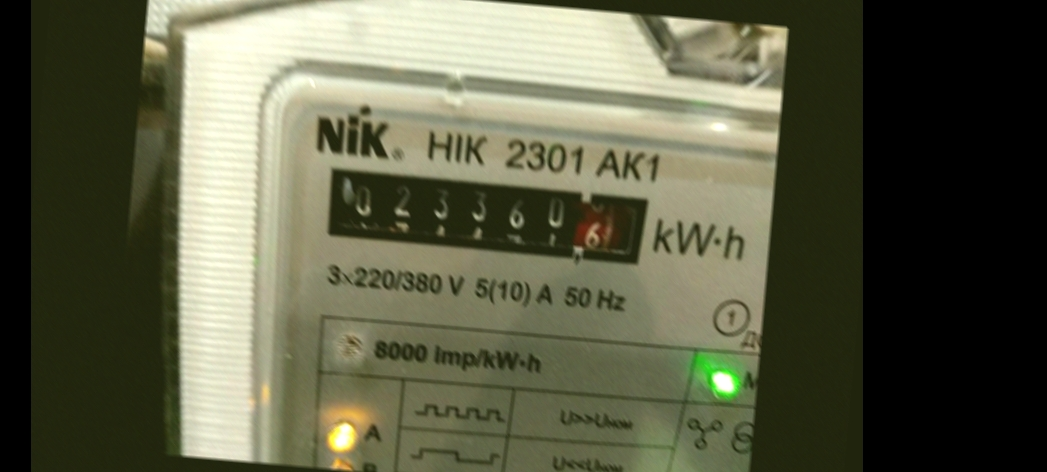0: (350, 179, 375, 216), (542, 192, 567, 229)
2: (390, 181, 414, 217)
3: (429, 184, 452, 221), (468, 187, 489, 222)
6: (504, 193, 527, 228), (581, 215, 602, 249)
screen: (309, 153, 668, 282)
